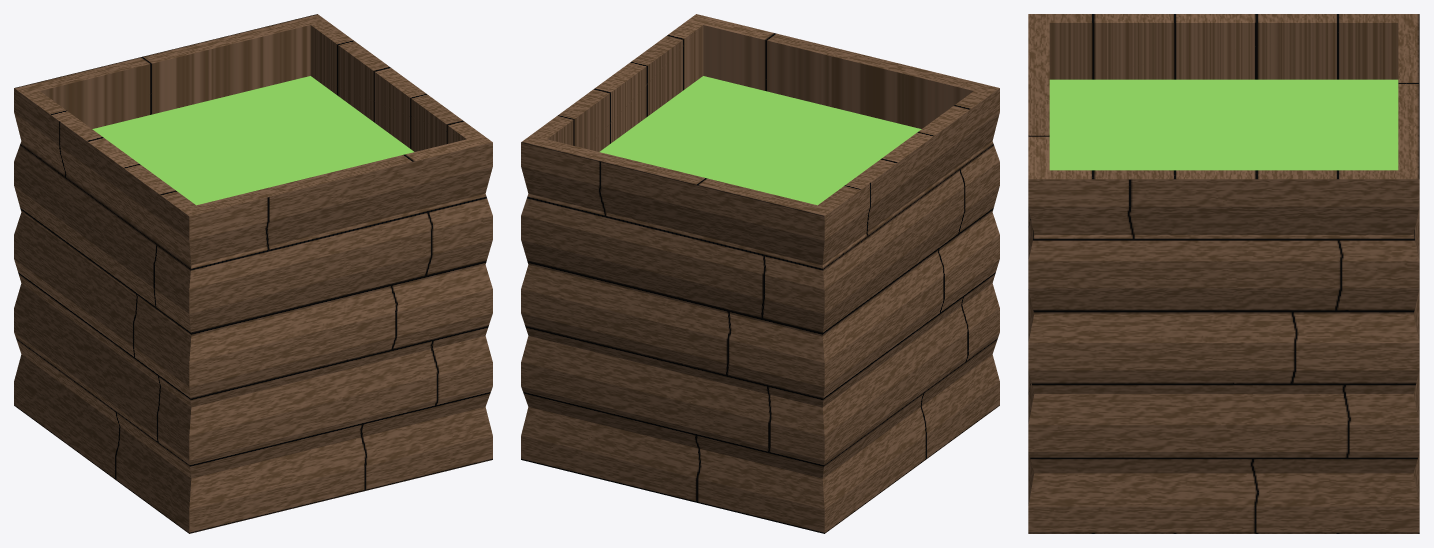
The model's file is box_of_harvest.fbx.
The picture shows the model from 3 angles, left to right: view 1: azimuth 30°, elevation 25°; view 2: azimuth 150°, elevation 25°; view 3: azimuth 270°, elevation 25°; orthographic projection. The views are drawn at different scales.
Visible parts, largest first — view 1: Cube.002; view 2: Cube.002; view 3: Cube.002.
Part boxes in pixels (x1=…): Cube.002: x1=14, y1=14, x2=492, y2=533; Cube.002: x1=521, y1=14, x2=999, y2=533; Cube.002: x1=1028, y1=14, x2=1419, y2=533.
Size of the model in its own units: 50 by 50 by 50.
Materials: 2 (1 with a texture image).
